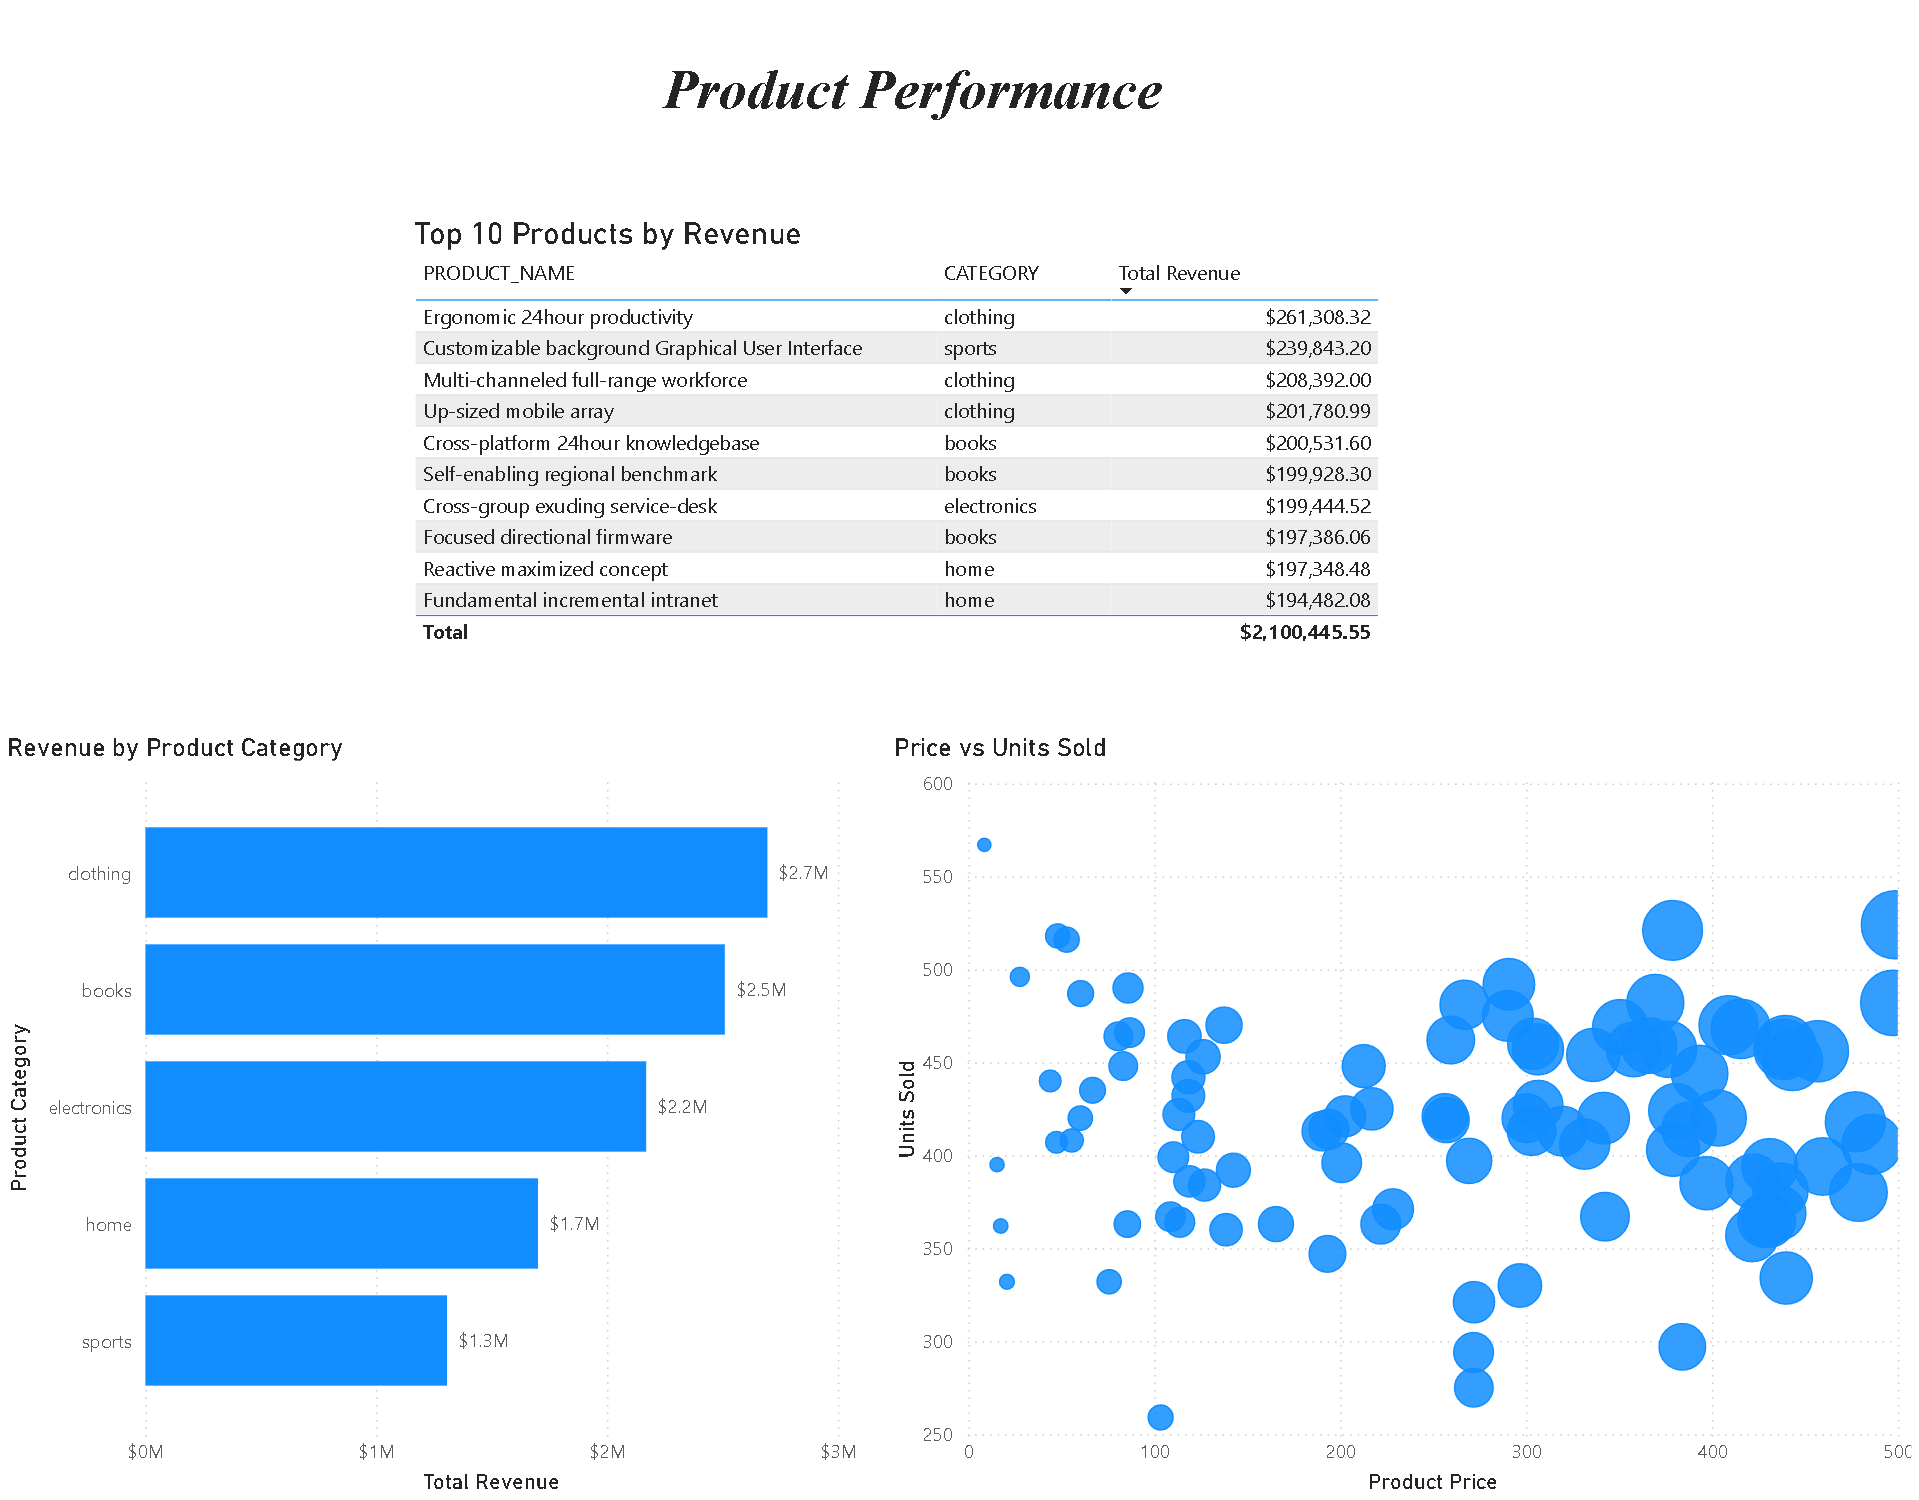

What the dashboard file says about the page in this screenshot:
{"tool":"powerbi","page":{"name":"Product Performance","canvas":[1280,1000],"ordinal":2},"visuals":[{"type":"tableEx","title":"Top 10 Products by Revenue","fields":{"Values":["DIM_PRODUCT.PRODUCT_NAME","DIM_PRODUCT.CATEGORY","_Measures.Total Revenue"]},"box":[272,144,704,320],"z":0},{"type":"clusteredBarChart","title":"Revenue by Product Category","fields":{"Category":["DIM_PRODUCT.CATEGORY"],"Y":["_Measures.Total Revenue"]},"box":[0,488,576,512],"z":1000},{"type":"scatterChart","title":"Price vs Units Sold","fields":{"X":["Sum(DIM_PRODUCT.CURRENT_PRICE)"],"Y":["_Measures.Units Sold"],"Size":["_Measures.Total Revenue"],"Category":["DIM_PRODUCT.PRODUCT_NAME"]},"box":[592,488,688,512],"z":2000},{"type":"textbox","box":[416,32,384,96],"z":3000}]}

Visuals, with their boxes in screenshot pixels (x1, y1, x2, y2), scaled from the page's 1280x1000 canvas onto the 1919x1500 screenshot:
"Top 10 Products by Revenue" tableEx: (408,216,1463,696)
"Revenue by Product Category" clusteredBarChart: (0,732,864,1499)
"Price vs Units Sold" scatterChart: (888,732,1918,1499)
textbox: (624,48,1199,192)
